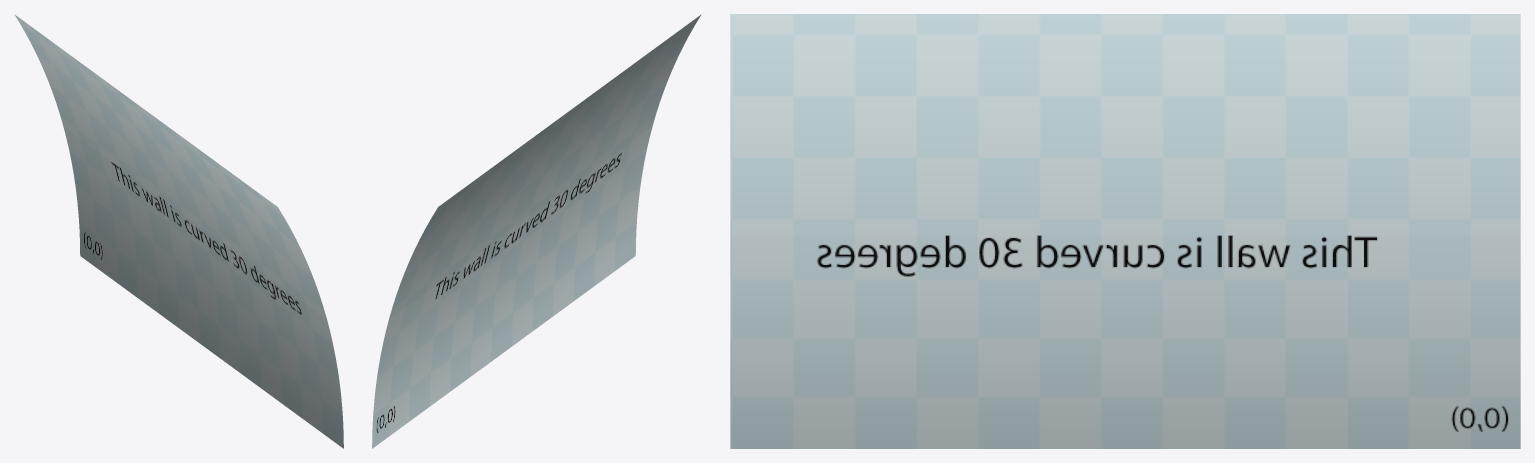
File: wall_arc_hull.fbx
3 renders of one model, left to right at view 1: azimuth 30°, elevation 25°; view 2: azimuth 150°, elevation 25°; view 3: azimuth 270°, elevation 25°, orthographic. The views are drawn at different scales.
Parts seen in each view (by area): view 1: wall_arc_hull; view 2: wall_arc_hull; view 3: wall_arc_hull.
Part boxes in pixels (x1,y1,x2,y2): wall_arc_hull: [14, 14, 343, 448]; wall_arc_hull: [372, 14, 701, 448]; wall_arc_hull: [730, 14, 1520, 448].
Bounding box in the file's own units: 57.87 × 216 × 400.
